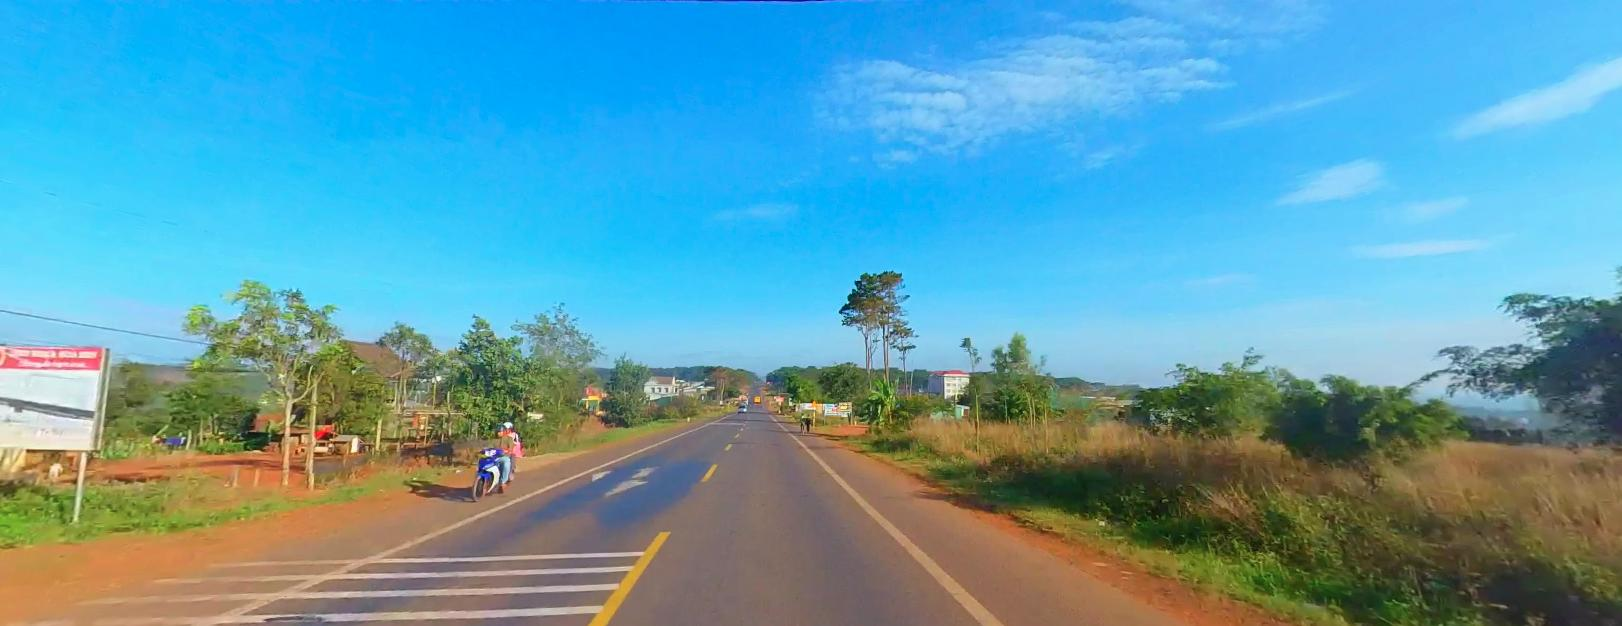Nguy hiem: (810, 398, 819, 408)
